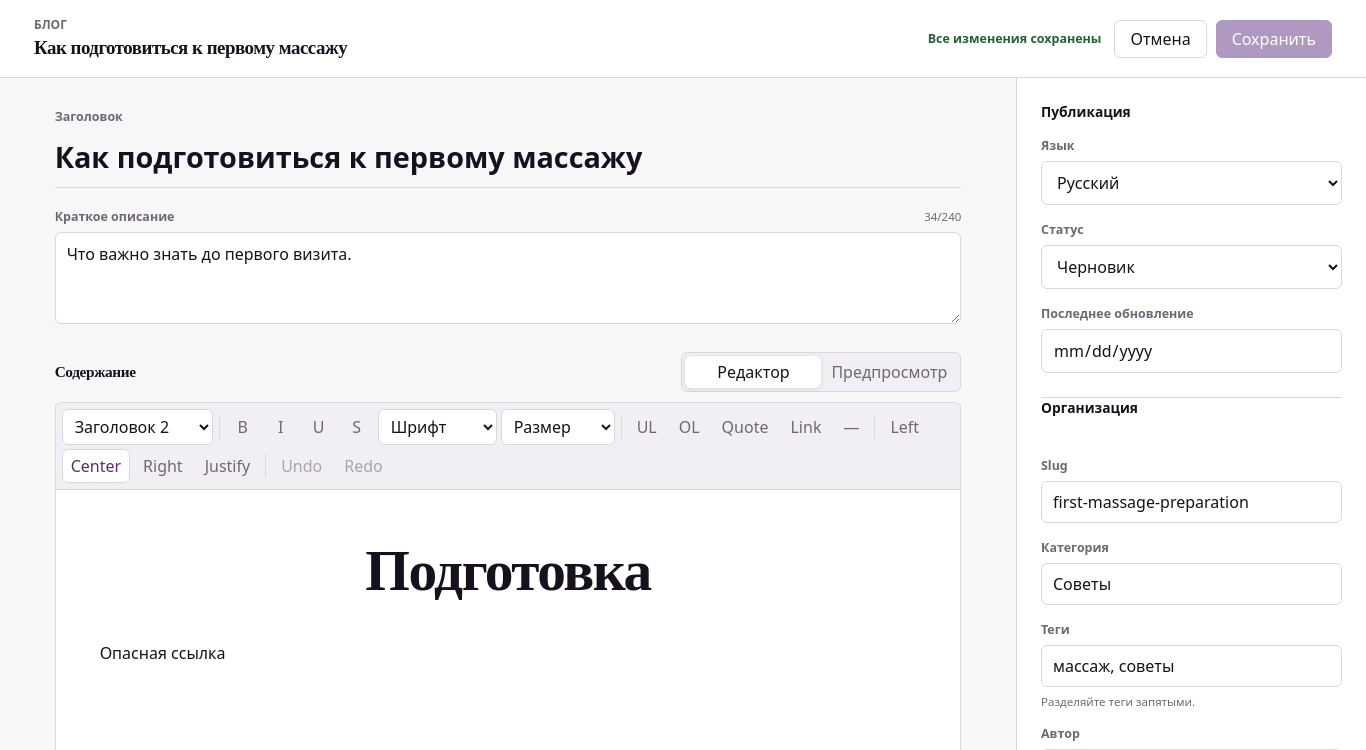
BlogArticleEditor › tracks controlled changes, sanitizes save output, and resets its internal dirty baseline
Expected: the message reads "Все изменения сохранены", [928,30,1101,47]
Expected: the button "Сохранить" is disabled, [1216,20,1332,58]
Replace the text in the field labelled "Заголовок" with "Обновленная статья" at (508, 160), box [55,132,961,188]
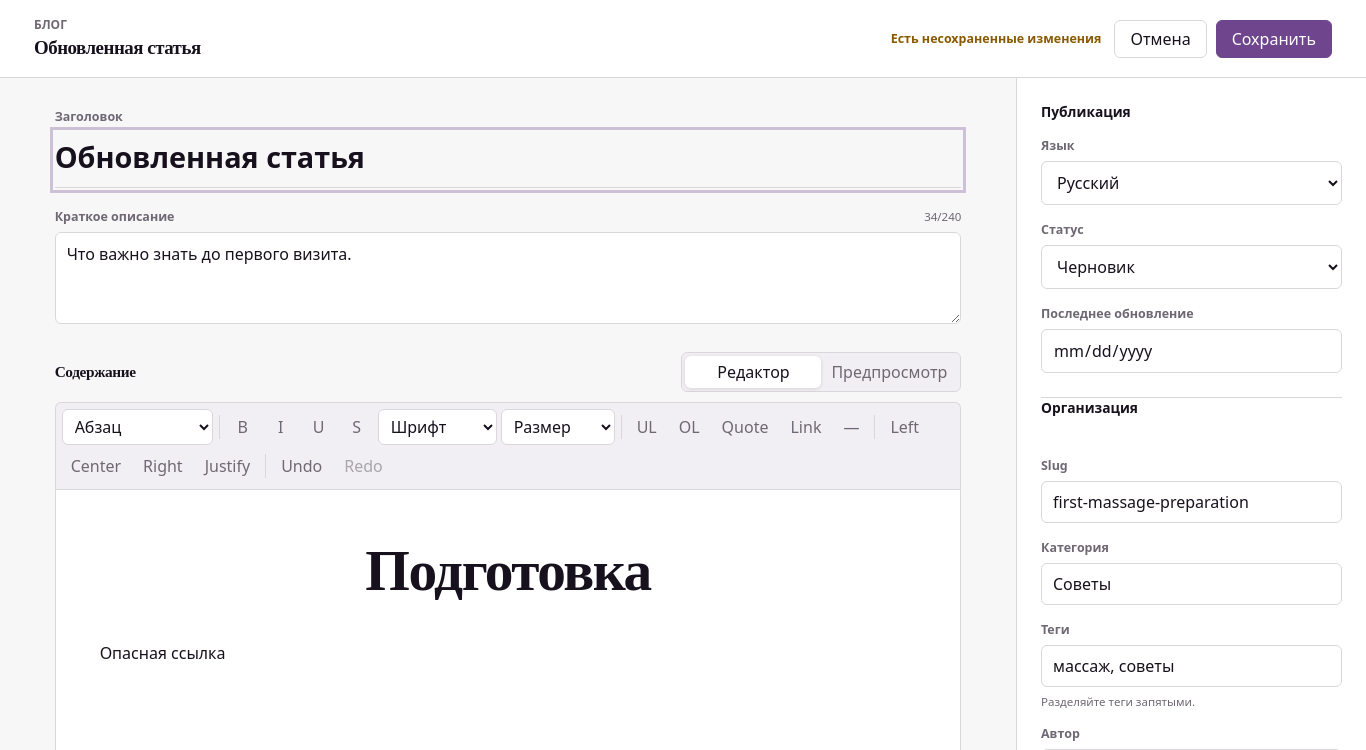
Expected: the message reads "Есть несохраненные изменения", [891,30,1101,47]
Click the button "Сохранить" at (1274, 38), box [1216,20,1332,58]
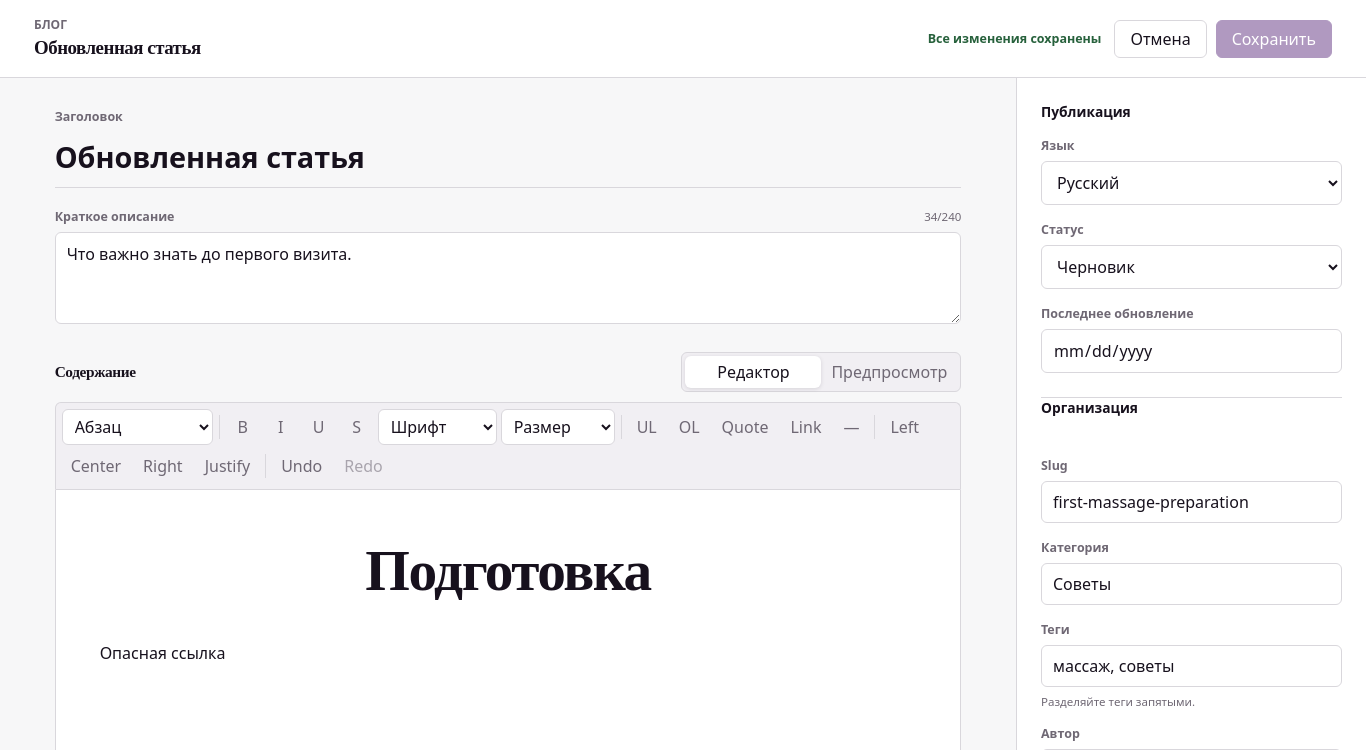
Expected: the heading "Обновленная статья" is shown, [34,36,201,61]
Expected: the message reads "Все изменения сохранены", [928,30,1101,47]
